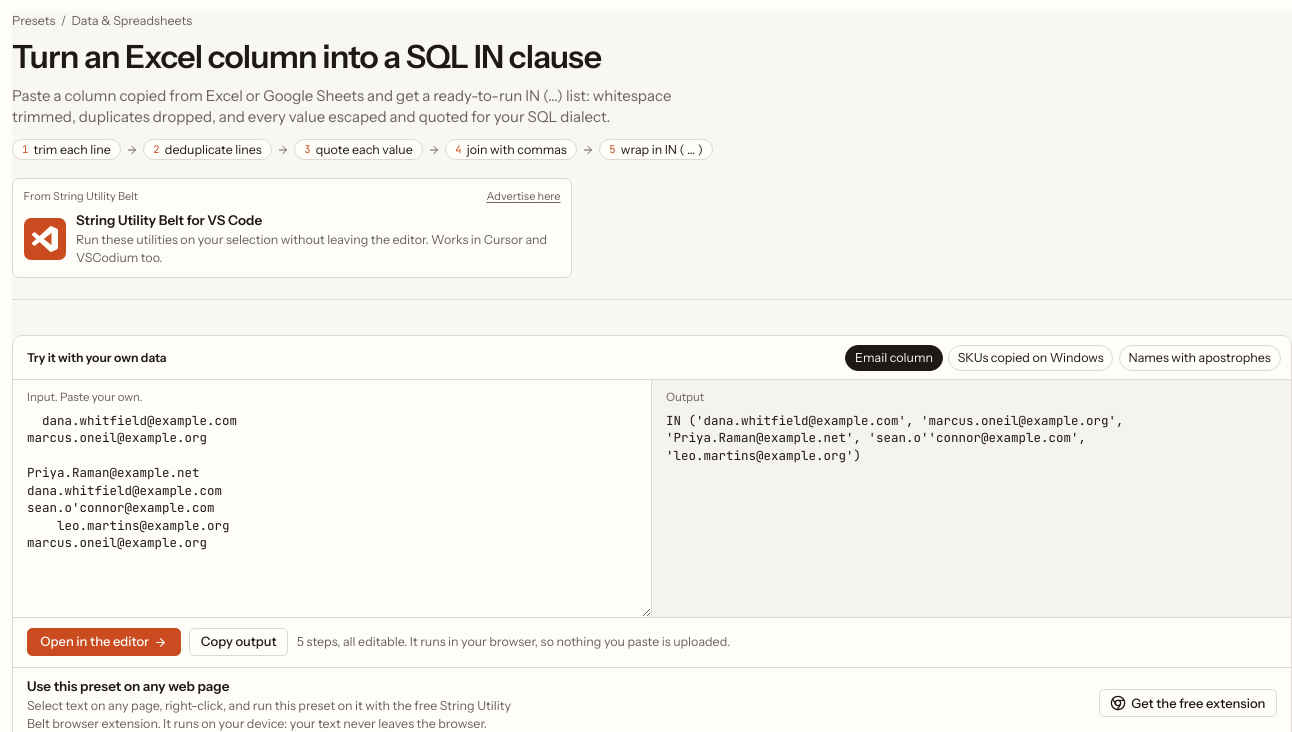
Test case: PresetPage › copies the output
expect the message named "Output" shows "IN ('dana.whitfield@example.com', 'marcus.oneil@example.org', 'Priya.Raman@example.net', 'sean.o''connor@example.com', 'leo.martins@example.org')": met, box [666,412,1131,464]
Step 1. Click the button "Copy output" → point(239, 642), box [189,628,288,656]
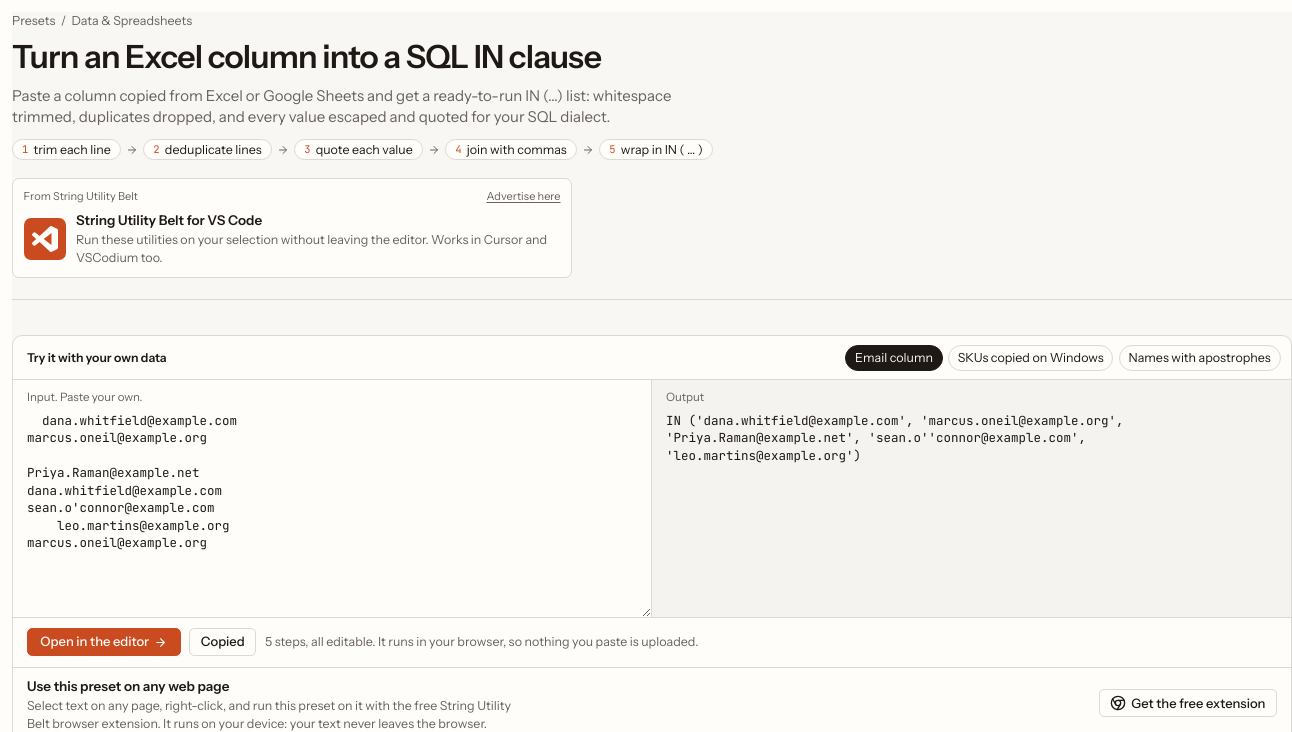
expect the button "Copied" is shown: met, box [189,628,256,656]
